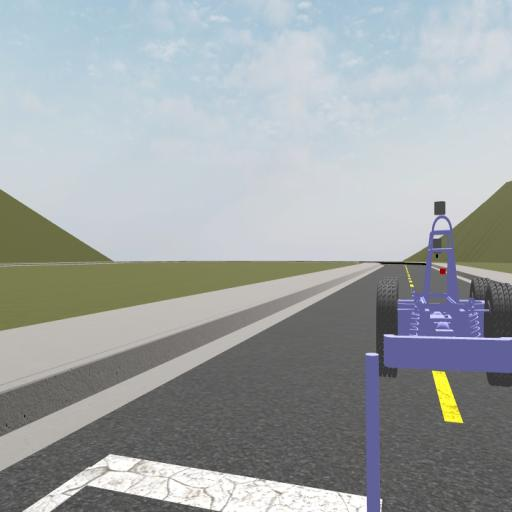ERP-42: (375, 198, 512, 388)
